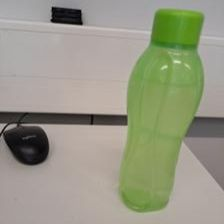bottle: (115, 7, 209, 213)
